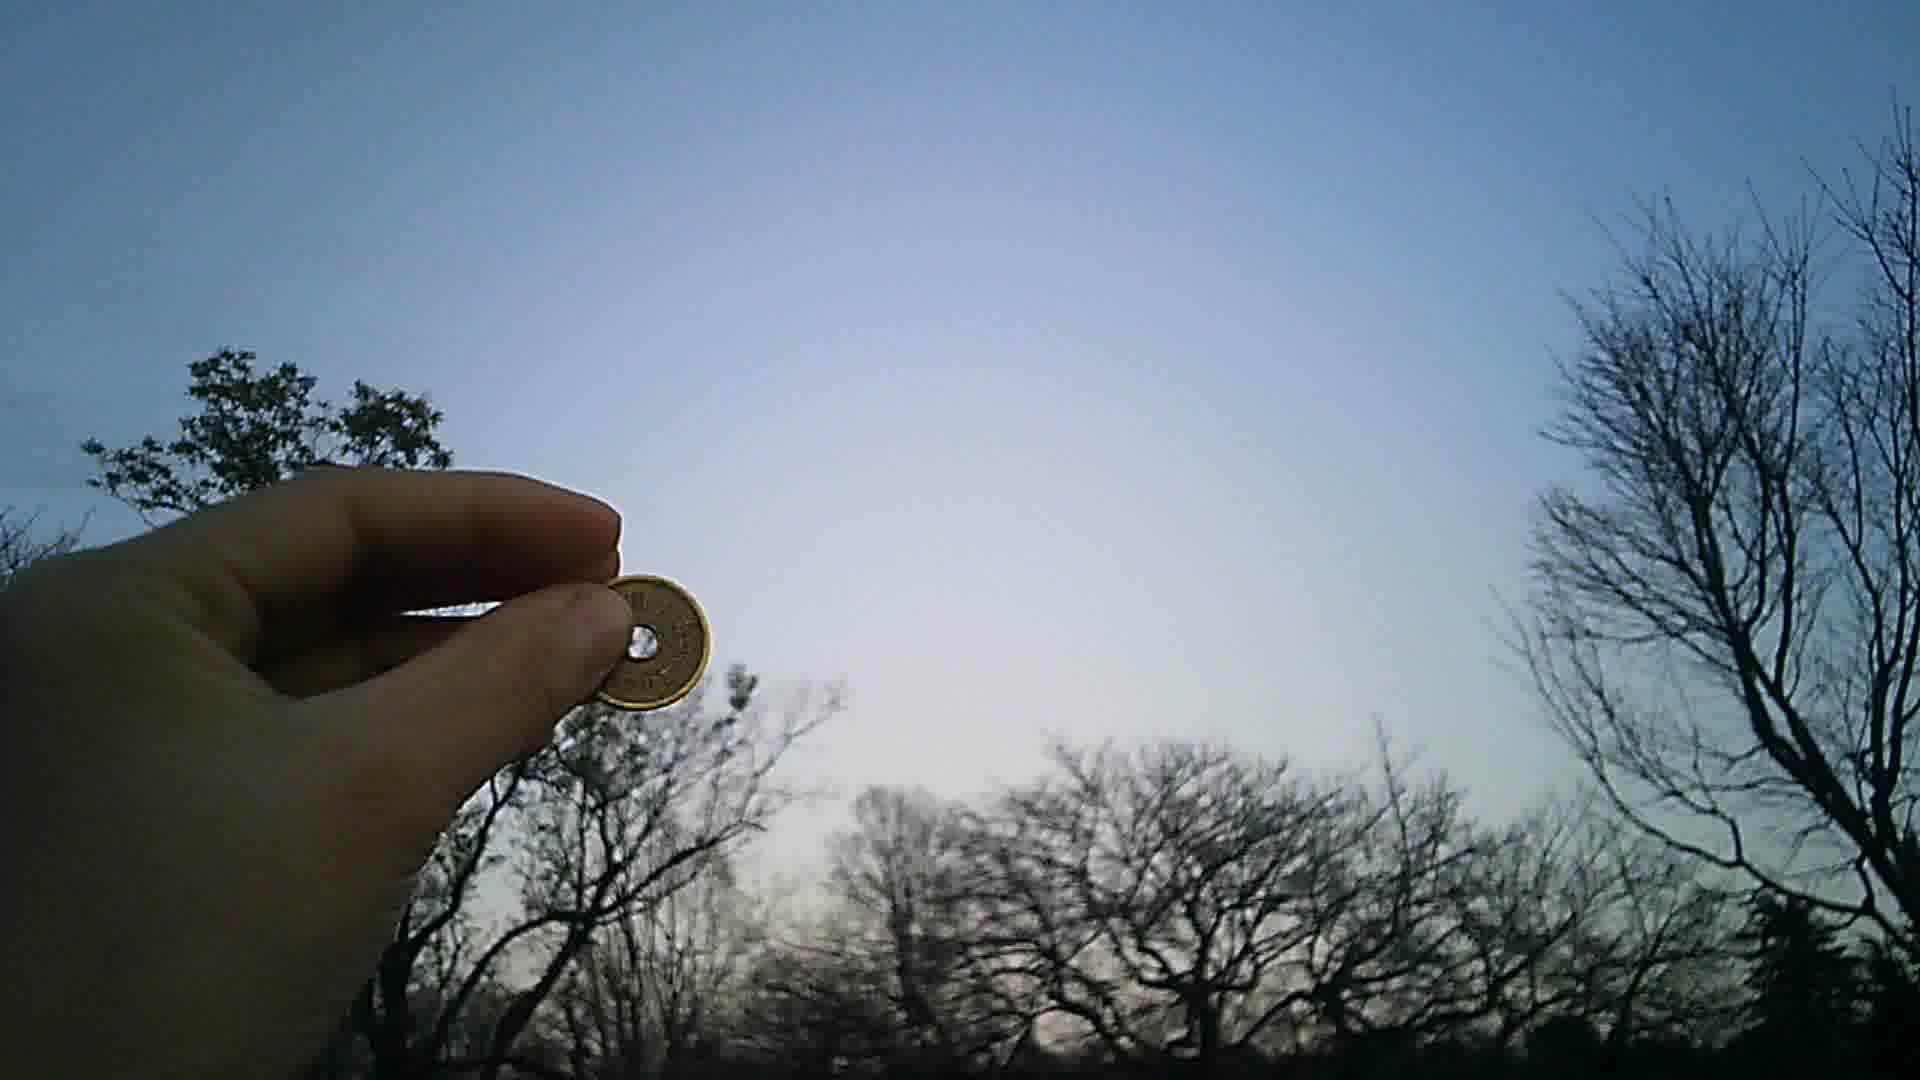5 Yen: (574, 568, 715, 721)
